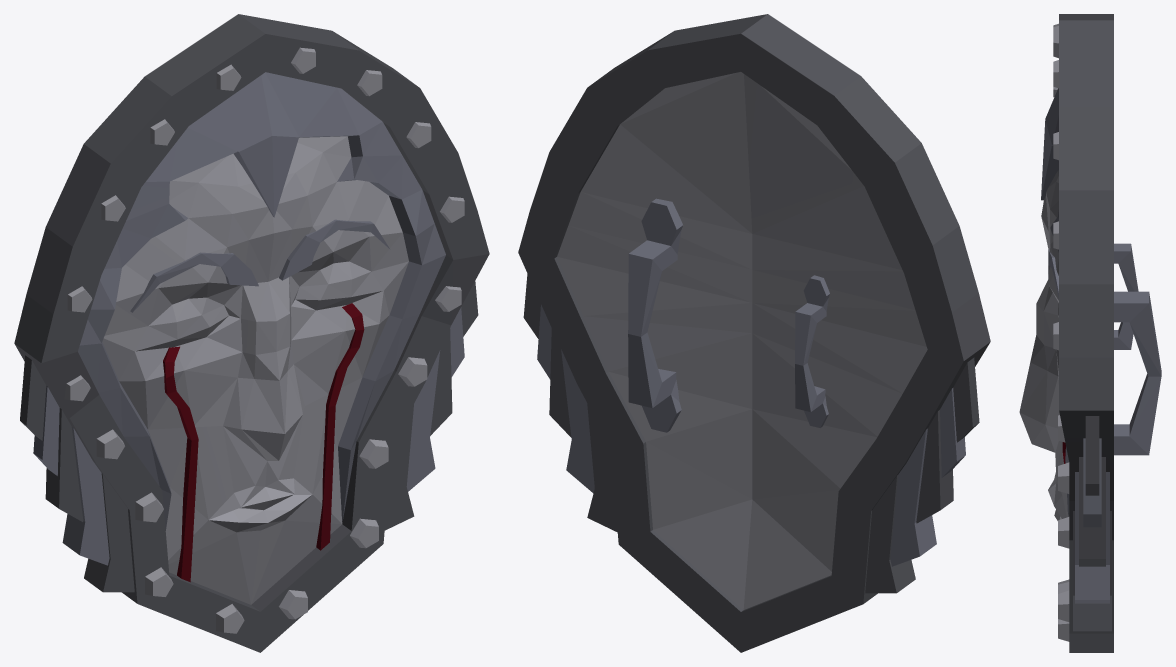
The model's file is _Shield_4.fbx.
The picture shows the model from 3 angles, left to right: view 1: azimuth 30°, elevation 25°; view 2: azimuth 150°, elevation 25°; view 3: azimuth 270°, elevation 25°; orthographic projection. The views are drawn at different scales.
Visible parts, largest first — view 1: Shield_4; view 2: Shield_4; view 3: Shield_4.
Part boxes in pixels (x1=…): Shield_4: x1=14, y1=14, x2=489, y2=652; Shield_4: x1=518, y1=14, x2=990, y2=652; Shield_4: x1=1019, y1=14, x2=1161, y2=652.
Bounding box in the file's own units: 71.5 × 94.18 × 19.17.
